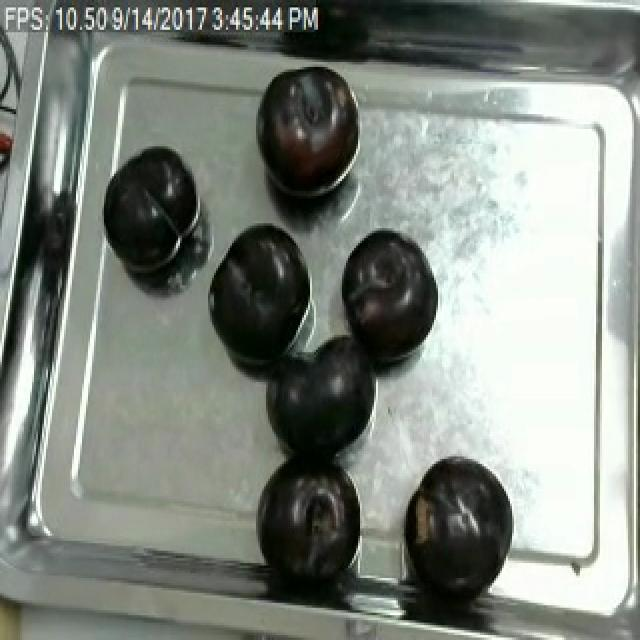Fruit: (192, 211, 320, 377), (394, 447, 524, 608), (254, 320, 388, 471), (246, 446, 364, 593), (94, 134, 210, 283), (246, 62, 362, 208), (334, 223, 442, 372)
